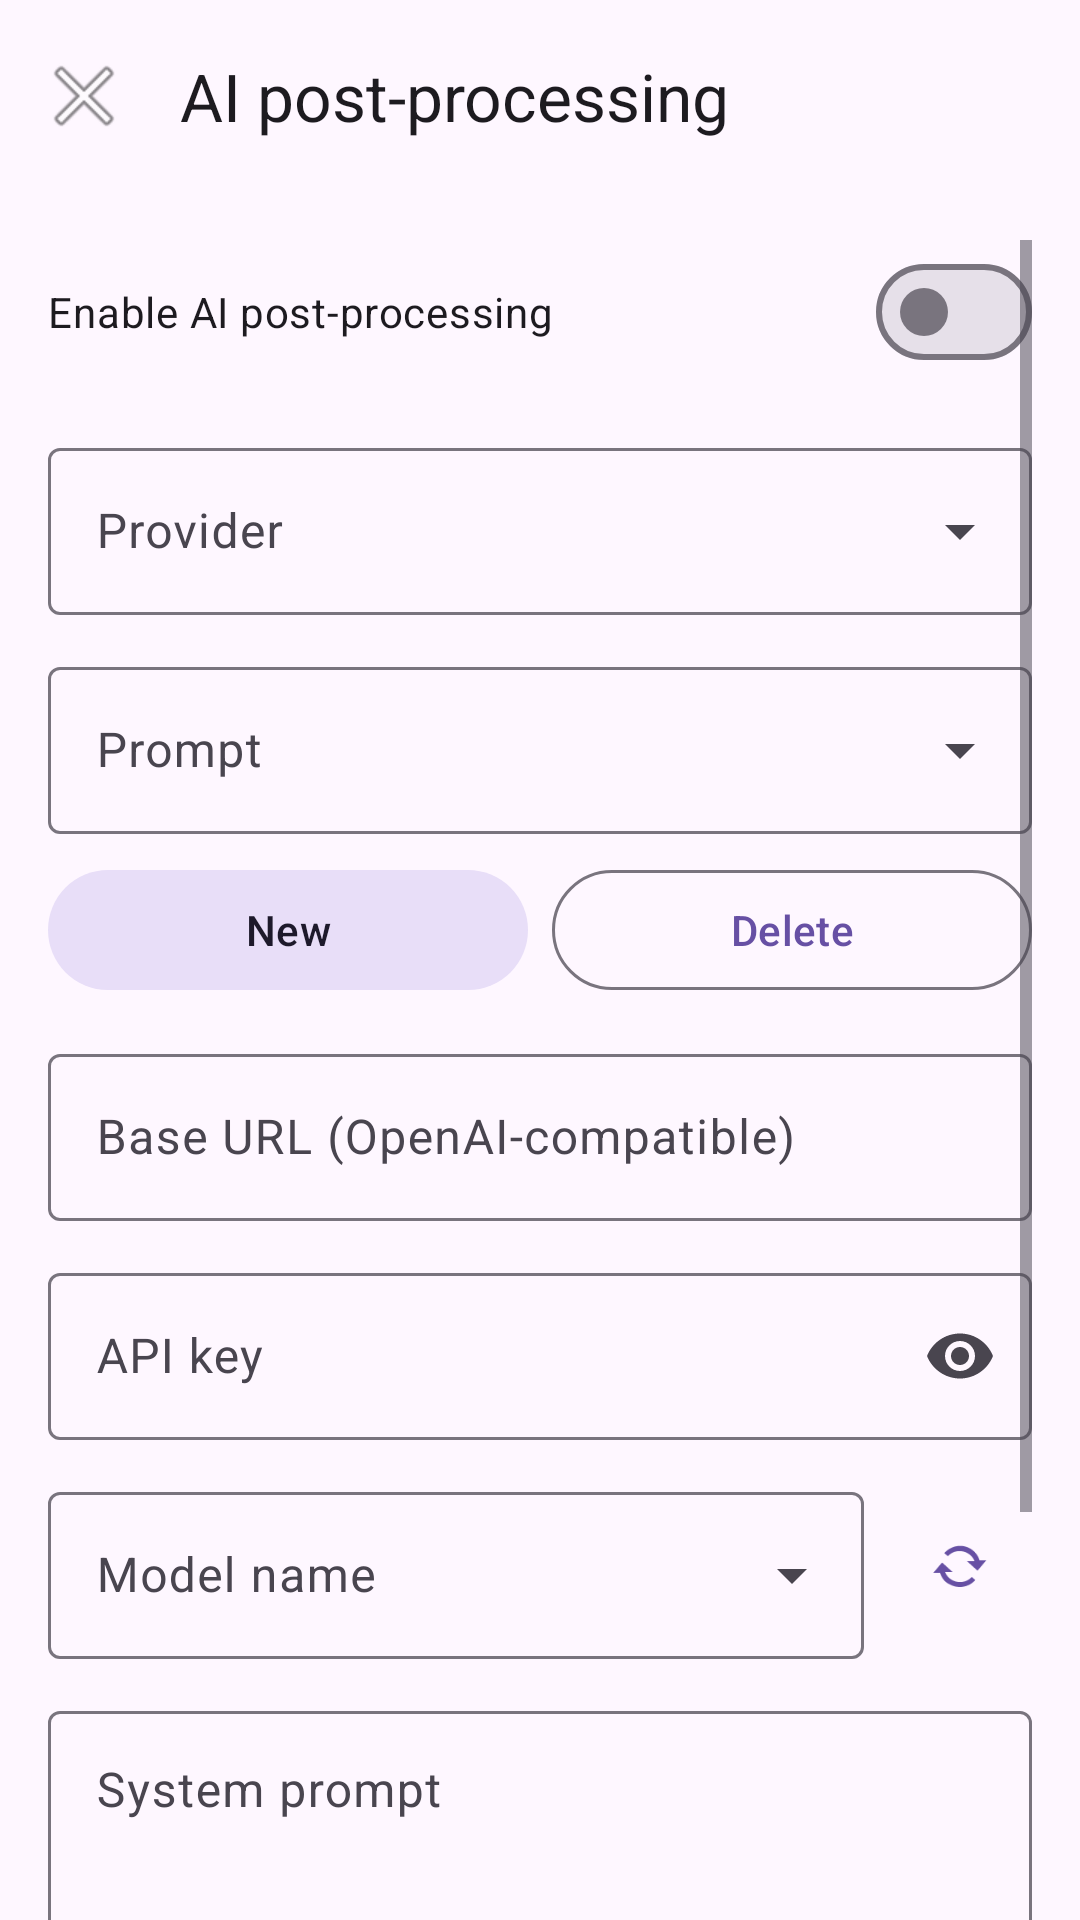

Where icons sit on this 1080 × 1920 app screen, as bbox(x1, y1, x2, y2):
Fetch available models: bbox(933, 1545, 986, 1587)
